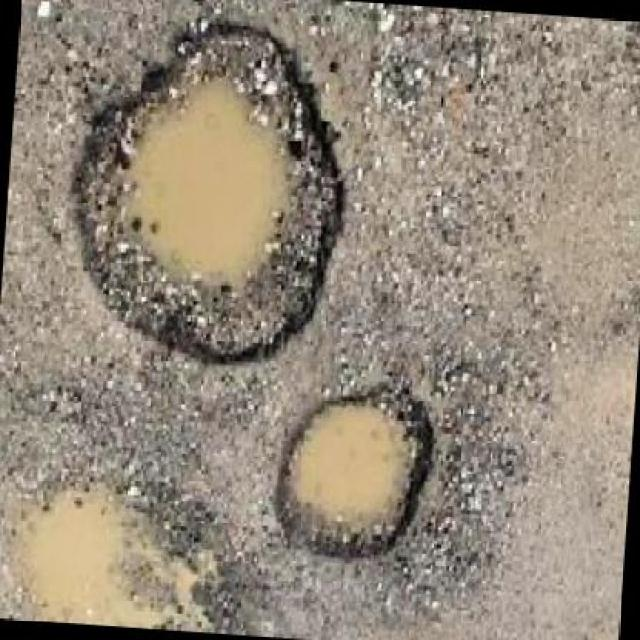pothole1: (53, 4, 365, 382), (0, 463, 242, 634), (266, 382, 442, 572)
